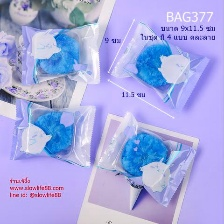snack: (92, 108, 200, 210), (107, 18, 214, 117), (5, 95, 99, 170), (16, 19, 104, 89)
